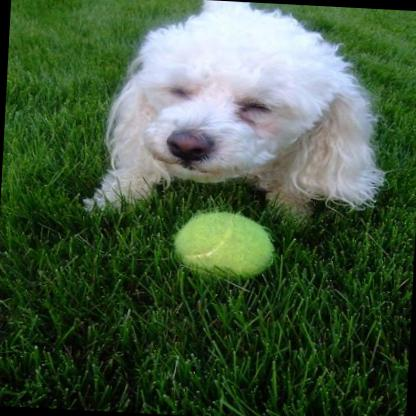miniature_poodle: (76, 0, 392, 230)
